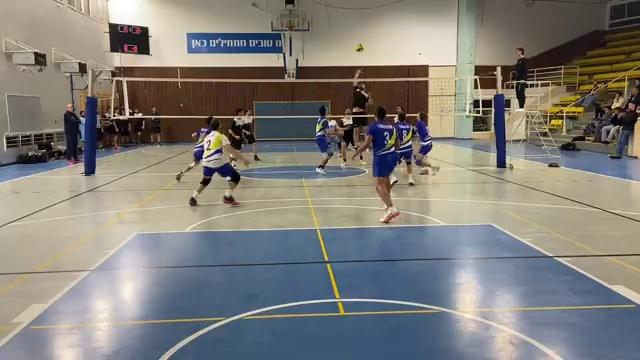ball: (356, 42, 366, 54)
